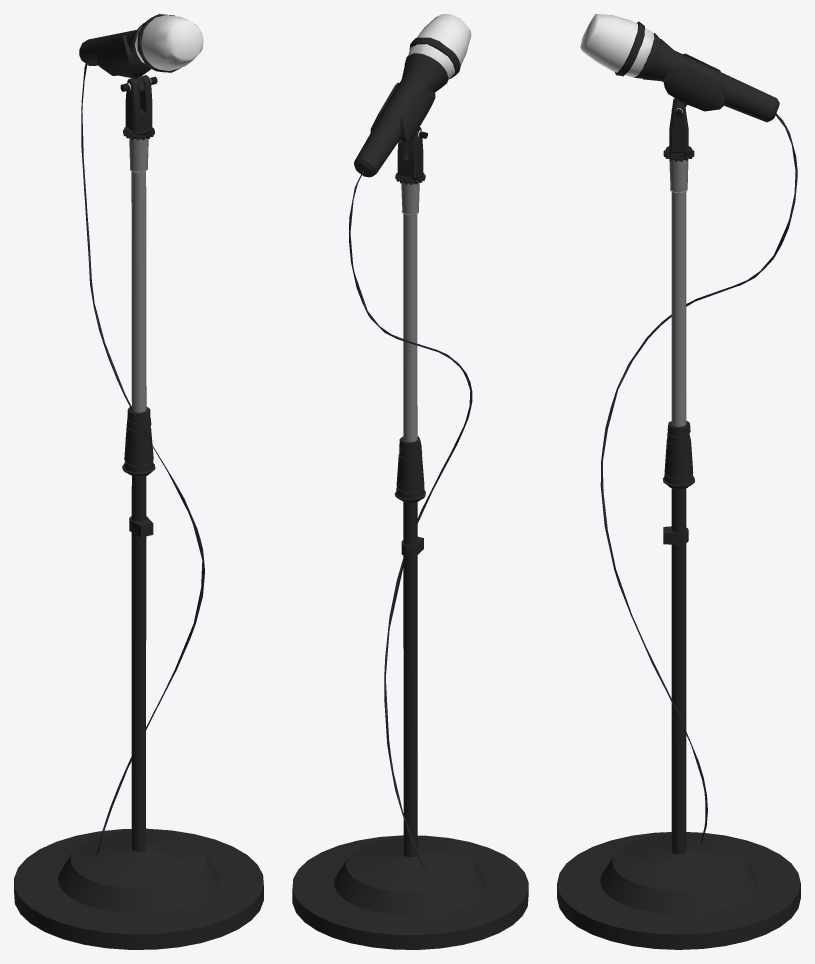
Rendered from microphone.glb.
The picture shows the model from 3 angles, left to right: view 1: azimuth 30°, elevation 25°; view 2: azimuth 150°, elevation 25°; view 3: azimuth 270°, elevation 25°; orthographic projection. The views are drawn at different scales.
Visible parts, largest first — view 1: stand_Material_0; view 2: stand_Material_0; view 3: stand_Material_0.
Boxes of the visible parts, left/top/right/bottom form: stand_Material_0: left=14, top=14, right=263, bottom=949; stand_Material_0: left=292, top=14, right=528, bottom=949; stand_Material_0: left=557, top=14, right=800, bottom=949.
Size of the model in its own units: 0.5364 by 2.14 by 0.5364.
1 material, 1 textured.
